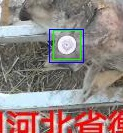text: (53, 30, 80, 59)
